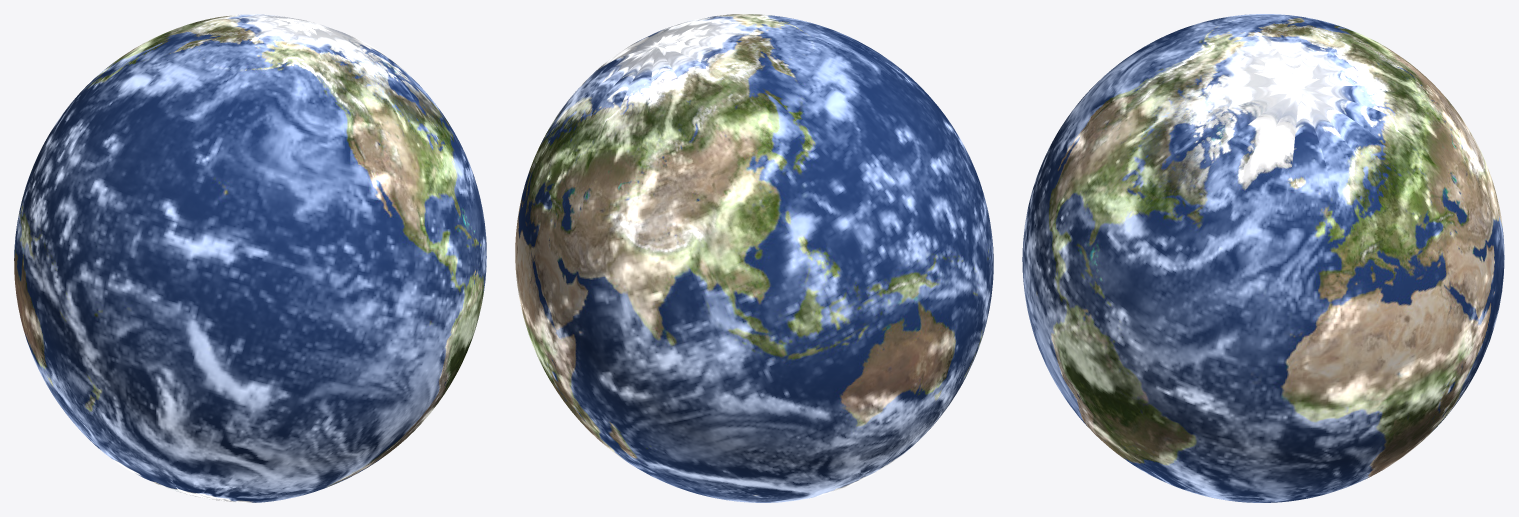
The model's file is earth_model-v1.glb.
3 views of the same model, side by side, from view 1: azimuth 30°, elevation 25°; view 2: azimuth 150°, elevation 25°; view 3: azimuth 270°, elevation 25° (orthographic). The views are drawn at different scales.
Visible parts, largest first — view 1: Sphere; view 2: Sphere; view 3: Sphere.
Boxes of the visible parts, x1,y1,x2,y2 form: Sphere: [14, 14, 486, 502]; Sphere: [515, 14, 993, 502]; Sphere: [1022, 14, 1504, 502].
Size of the model in its own units: 1.88 by 1.94 by 1.88.
Materials: 1 (1 with a texture image).
